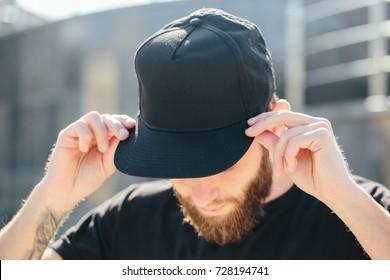cap: (105, 2, 283, 184)
